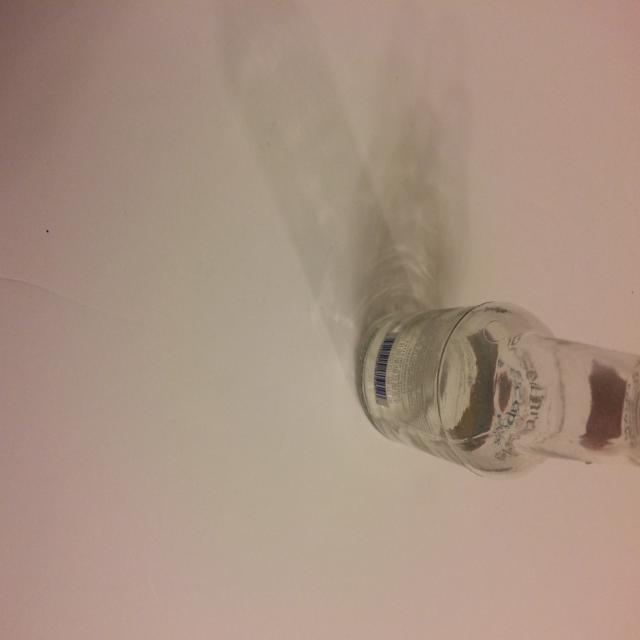glass: (222, 0, 640, 479)
